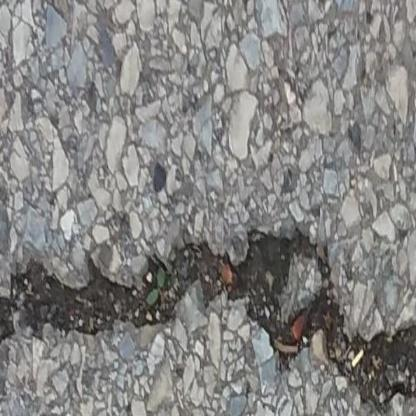Cracks: (0, 226, 416, 415)
